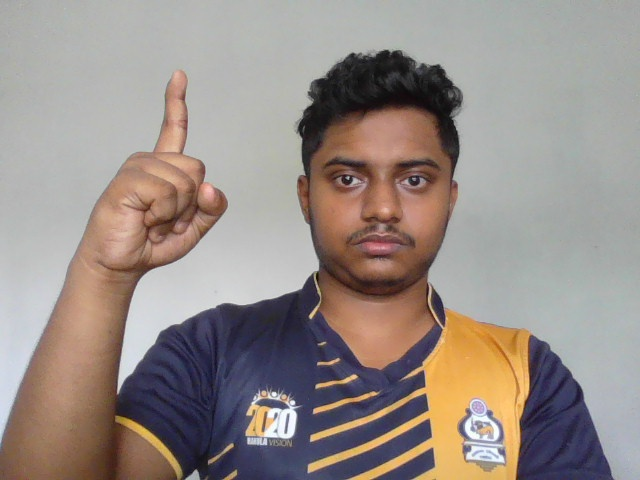Me: (83, 70, 228, 275)
